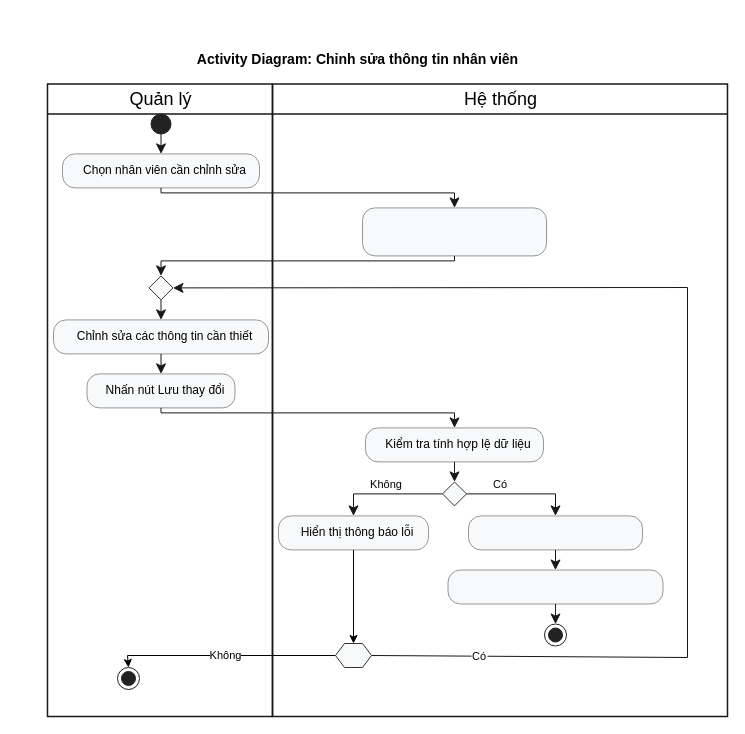
Some shapes in this 745 by 734 pixel diagram are drawn without their labels. The centre of each missing label's shape, as x and y in pixels:
"Cập nhật dữ liệu vào CSDL" belongs at point 555,532.
"Hiển thị biểu mẫu thông tin hiện tại của nhân viên" belongs at point 454,231.
"Thông báo chỉnh sửa thành công" belongs at point 555,586.
